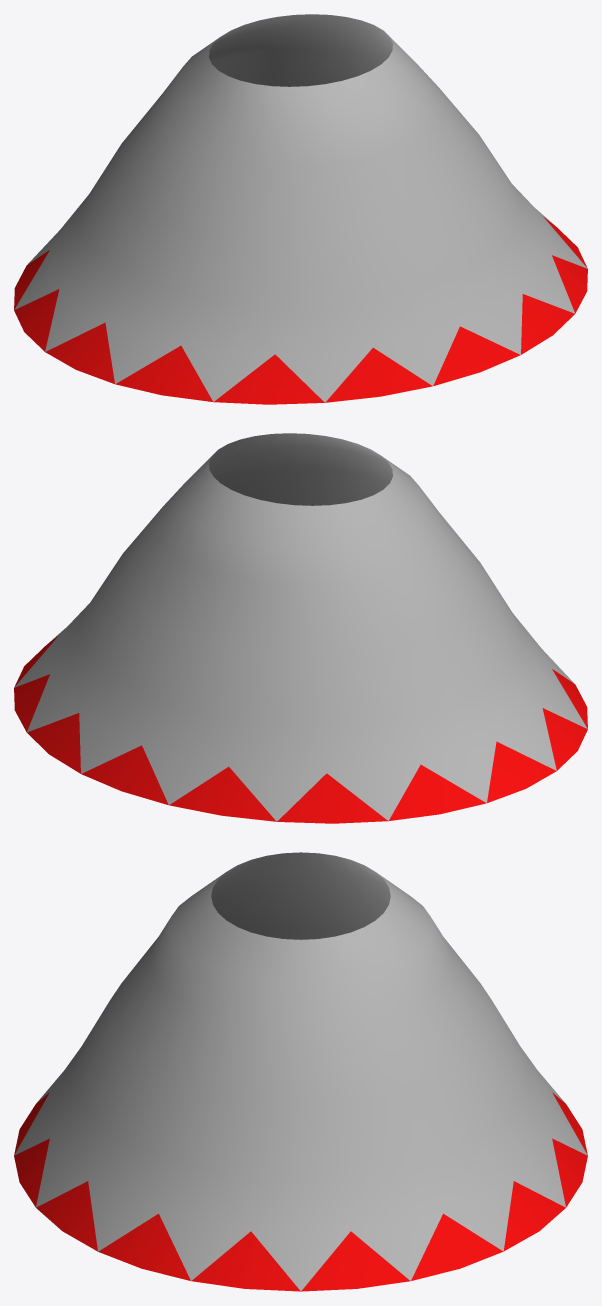
File: Girl_skirt.fbx
The picture shows the model from 3 angles, top to bottom: view 1: azimuth 30°, elevation 25°; view 2: azimuth 150°, elevation 25°; view 3: azimuth 270°, elevation 25°; orthographic projection. The views are drawn at different scales.
Parts seen in each view (by area): view 1: Skirt; view 2: Skirt; view 3: Skirt.
Boxes of the visible parts, x1=… form: Skirt: x1=14, y1=14, x2=587, y2=404; Skirt: x1=14, y1=433, x2=587, y2=823; Skirt: x1=14, y1=852, x2=587, y2=1291.
Bounding box in the file's own units: 223 × 99.47 × 199.
